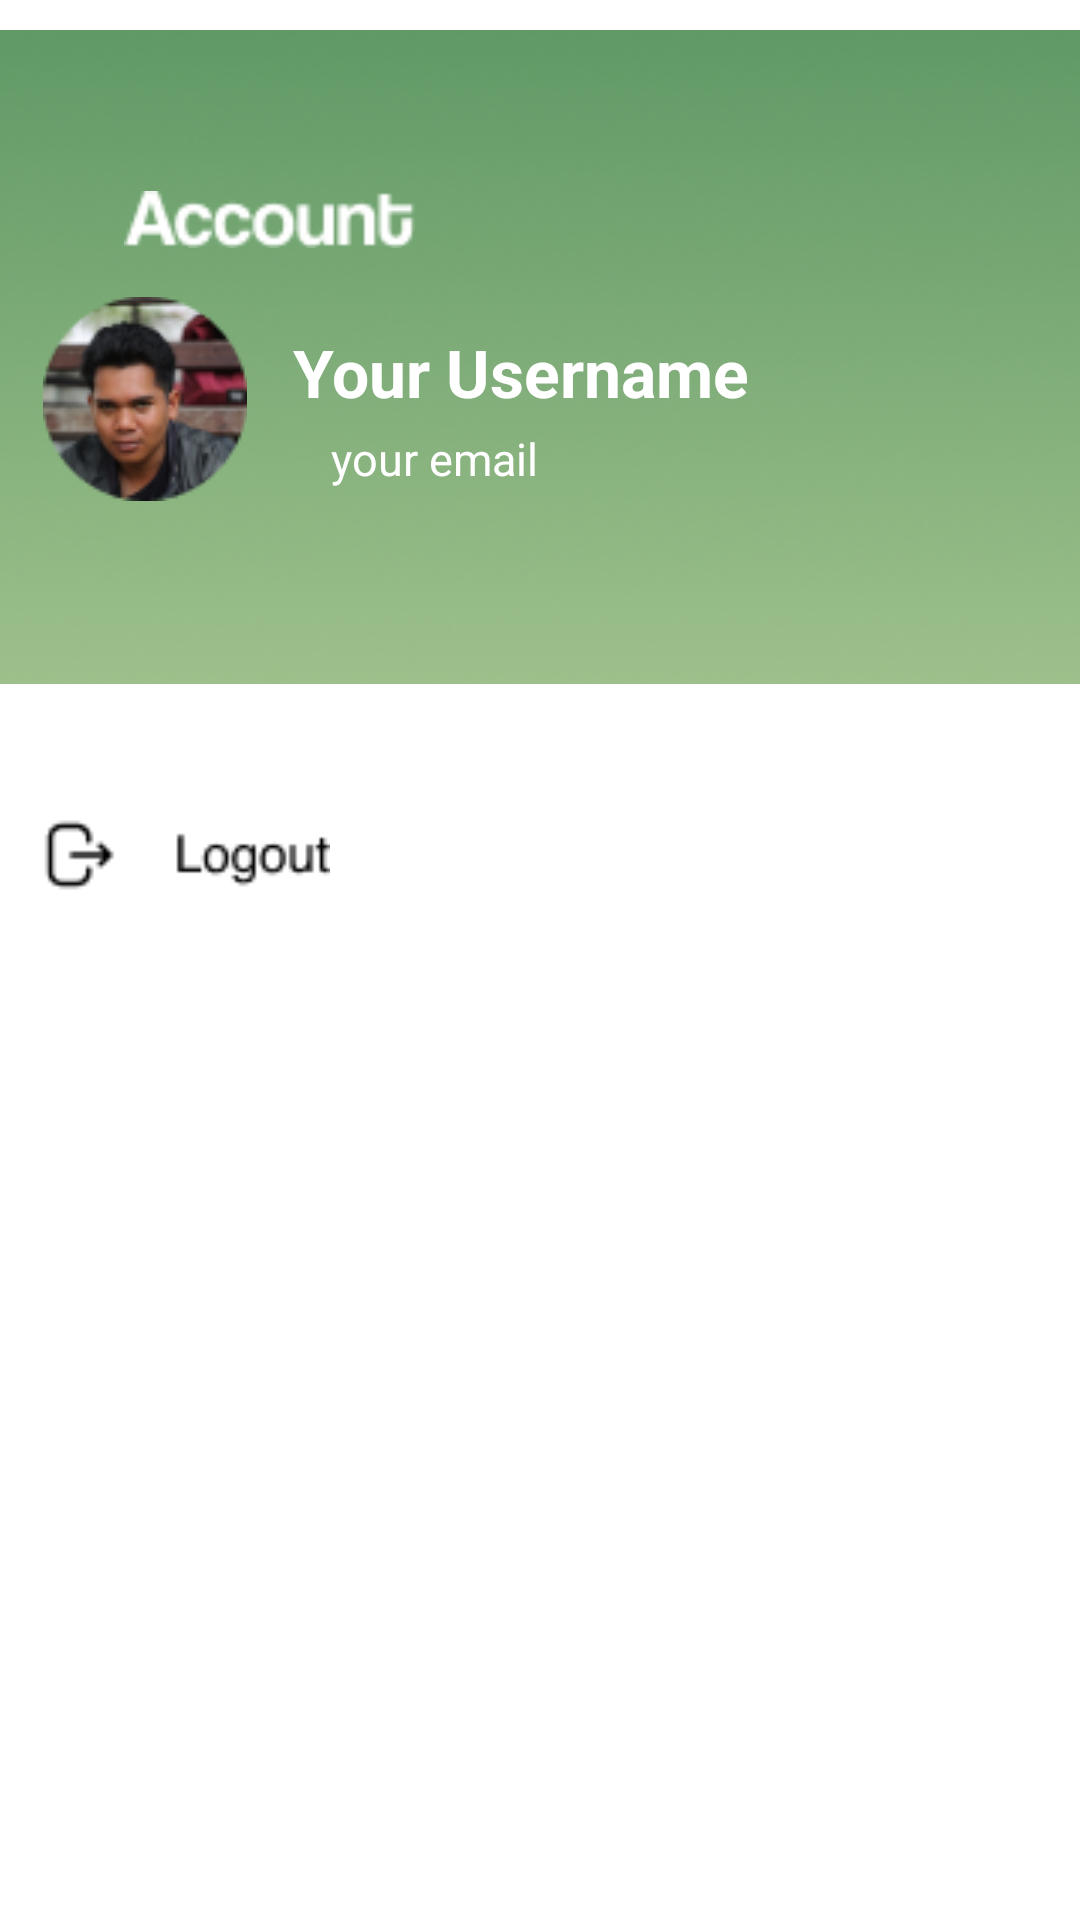

Icon click points for this 1080px x 1920px phone screenshot, format (x=x, y=y):
profil foto: (x=145, y=399)
